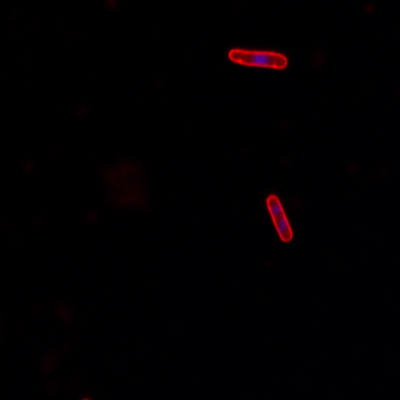Nalidixate: (266, 194, 293, 243), (228, 48, 288, 70)
